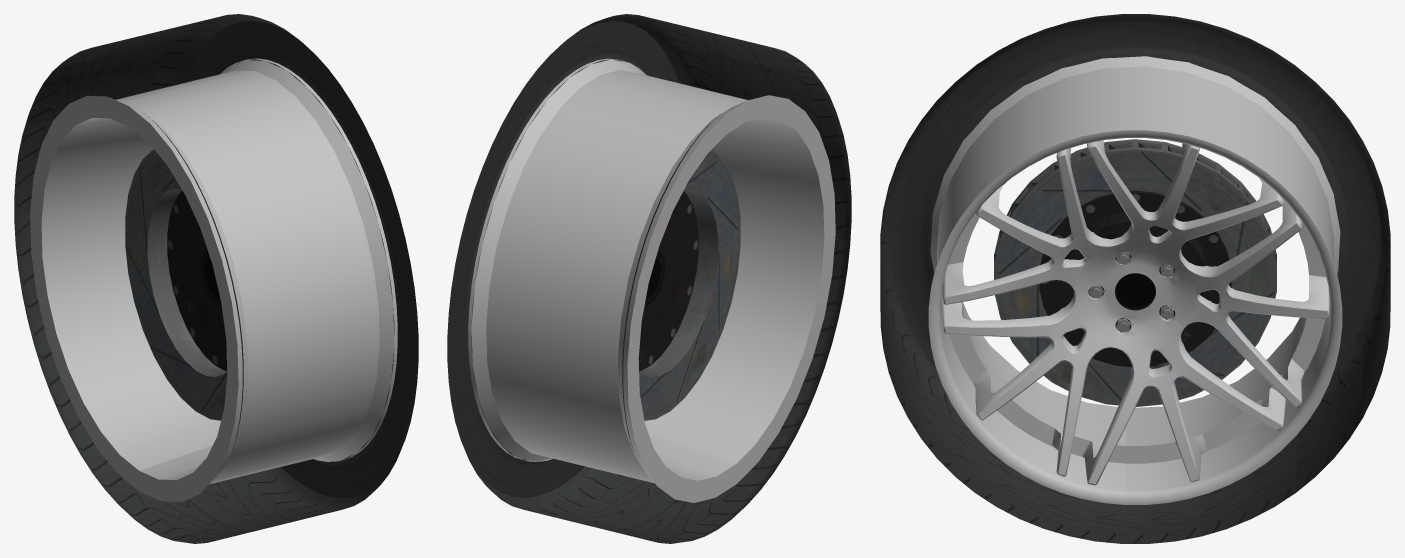
Rendered from wheel.gltf.
The picture shows the model from 3 angles, left to right: view 1: azimuth 30°, elevation 25°; view 2: azimuth 150°, elevation 25°; view 3: azimuth 270°, elevation 25°; orthographic projection.
Visible parts, largest first — view 1: car.093; view 2: car.093; view 3: car.093.
Part boxes in pixels (box(x1,y1,x2,y2)): car.093: box(14, 14, 418, 543); car.093: box(447, 14, 851, 543); car.093: box(880, 14, 1390, 543).
Size of the model in its own units: 0.3052 by 0.8234 by 0.8234.
4 materials, 2 textured.
